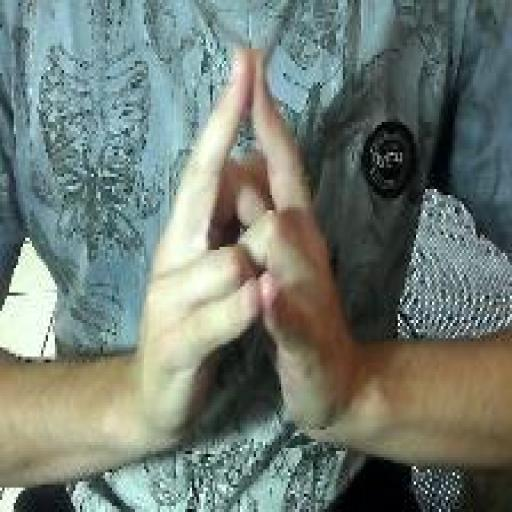Tori -bird-: (133, 44, 354, 459)
